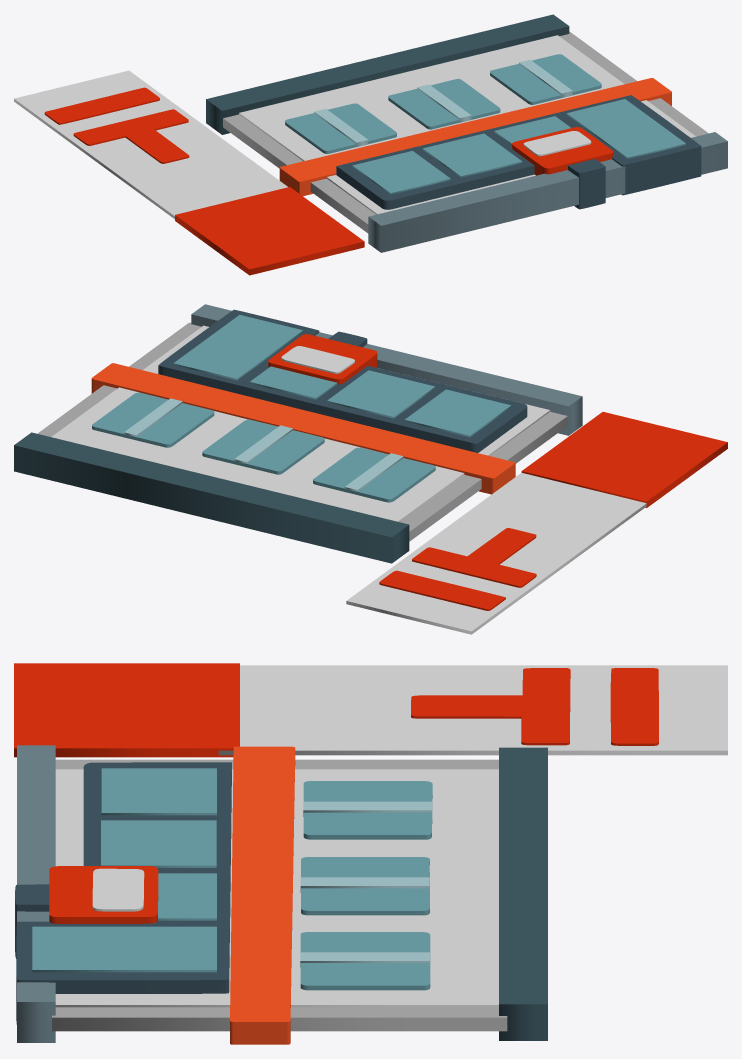
Rendered from emoji_u1f3e3.glb.
3 views of the same model, one above another, from view 1: azimuth 30°, elevation 25°; view 2: azimuth 150°, elevation 25°; view 3: azimuth 270°, elevation 25° (orthographic). The views are drawn at different scales.
Parts seen in each view (by area): view 1: emoji_u1f3e3; view 2: emoji_u1f3e3; view 3: emoji_u1f3e3.
Boxes of the visible parts, <box> form: emoji_u1f3e3: <box>14,14,727,275</box>; emoji_u1f3e3: <box>14,304,727,634</box>; emoji_u1f3e3: <box>14,663,727,1044</box>.
Bounding box in the file's own units: 0.0344 × 0.0028 × 0.0284.
